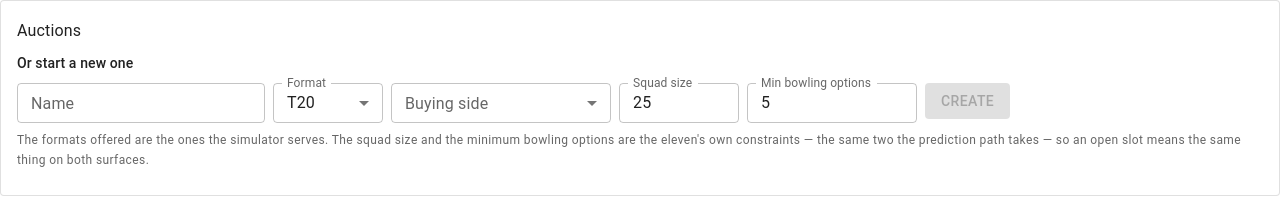
Scenario: AuctionSetup › loads the sides for the chosen format and names them by their display name
The width and height of the screenshot is (1280, 213).
What coordinates should you click on to do the following:
click the dropdown named "Buying side"
I would click on:
 (501, 103)
Its box is [391,83,611,123].
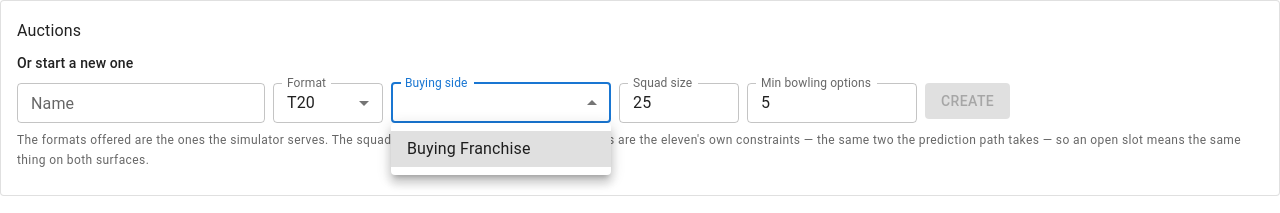
expect the option "Buying Franchise" is shown: met, box [391,131,611,167]
